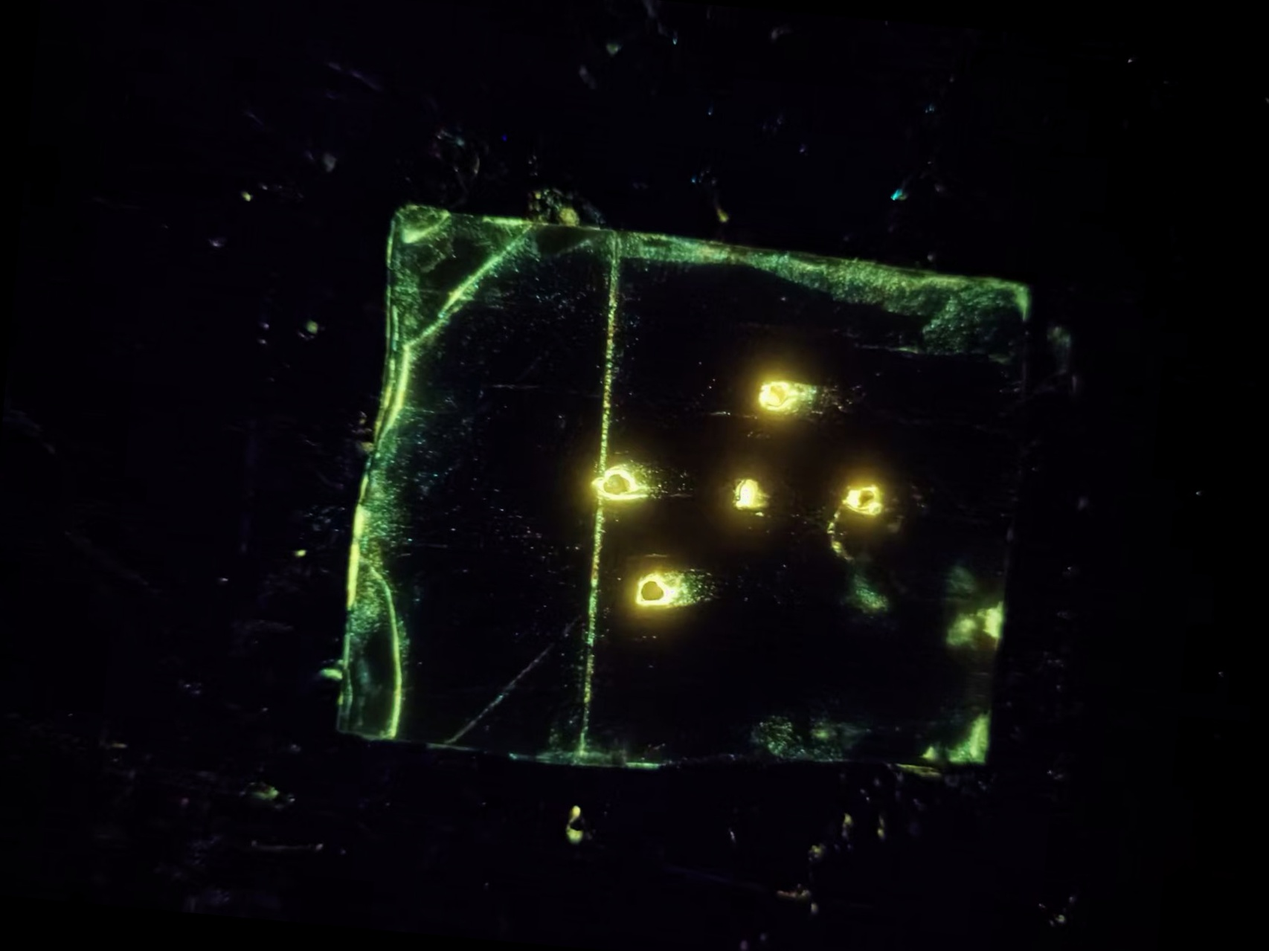Crater: (726, 354, 856, 436), (805, 459, 898, 541), (704, 452, 792, 533), (584, 448, 667, 519), (618, 551, 695, 624)
